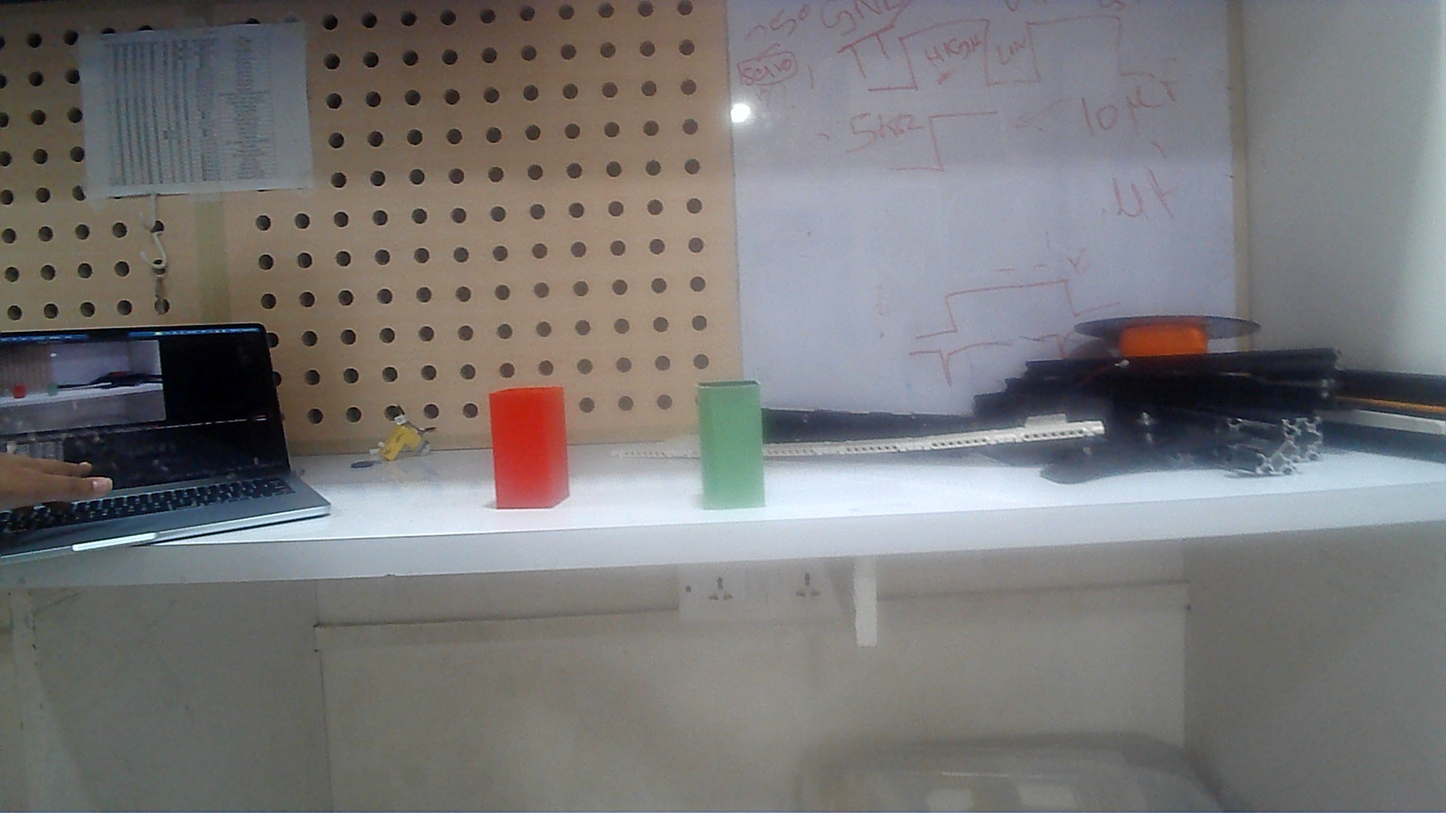red: (496, 388, 568, 504)
